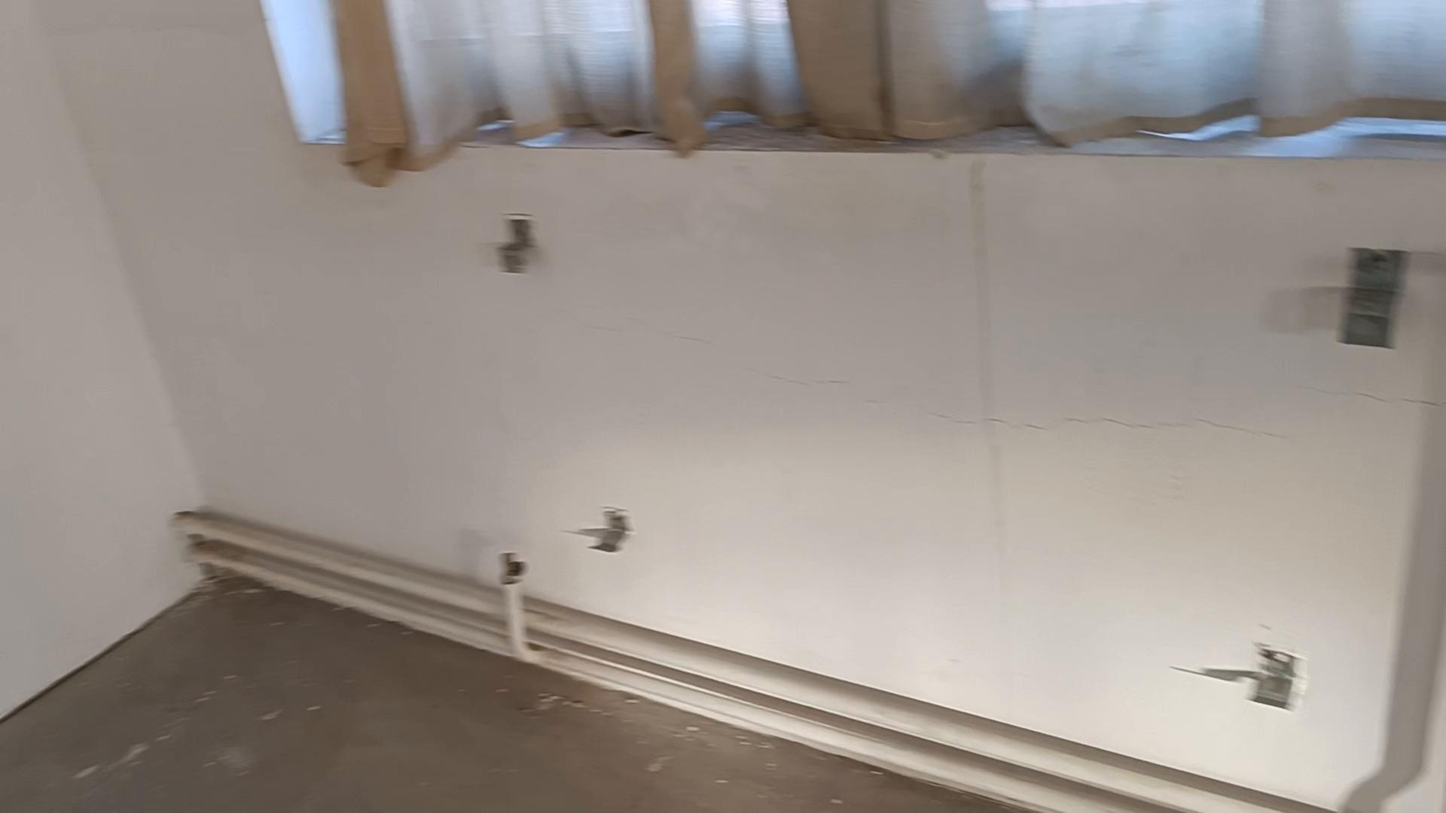floor: (0, 572, 1021, 812)
wall: (0, 0, 1445, 812)
